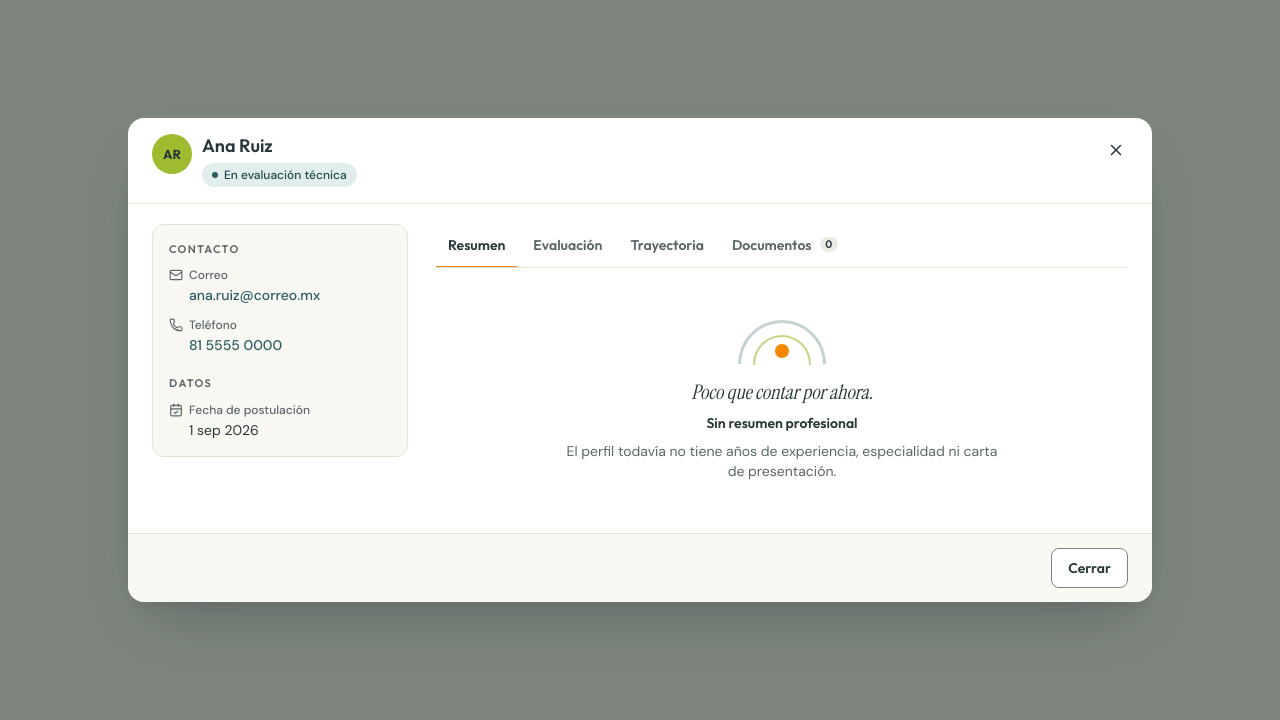
Scenario: Ficha de candidato · Modal del sistema › guardar calificaciones manda el mismo cuerpo de siempre
The image size is (1280, 720).
Click the tab "Evaluación".
click(568, 246)  # box [521, 224, 614, 268]
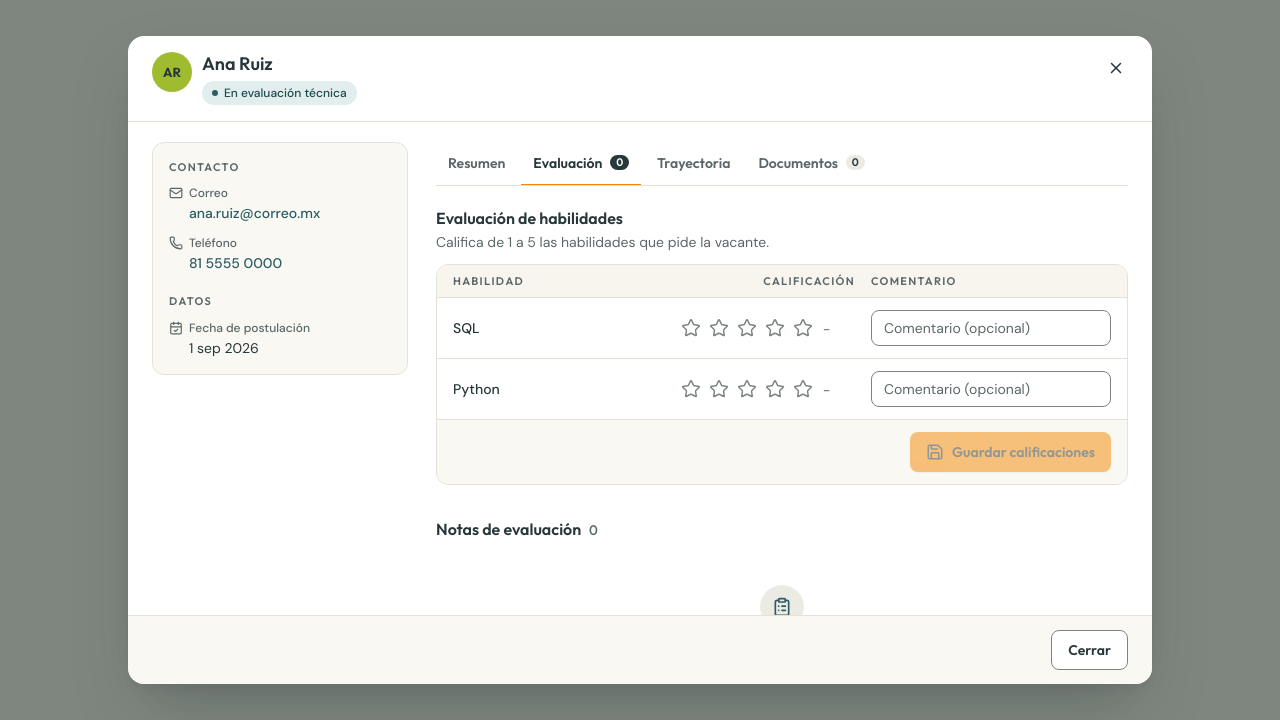
Click the button named "Calificar SQL: 4 de 5 estrellas".
click(775, 328)  # box [761, 312, 789, 344]
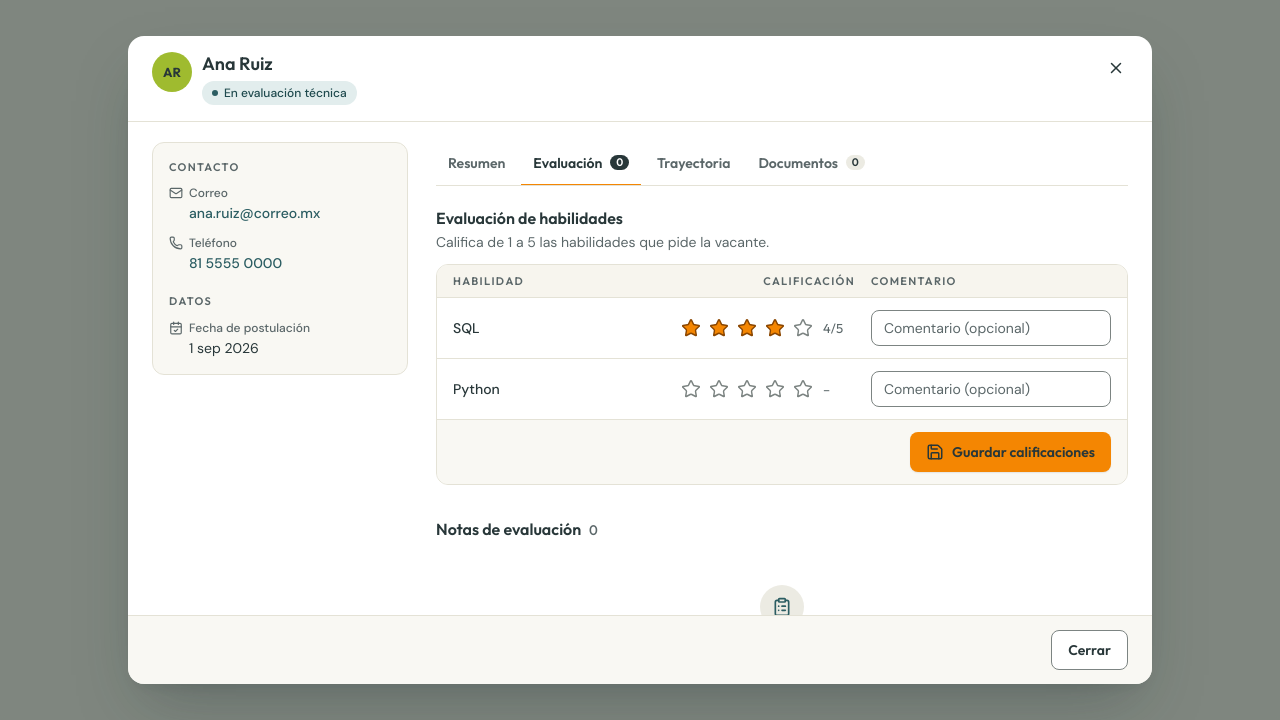
Now the field named "Comentario sobre SQL" is shown, box [871, 310, 1111, 346]
Click the button "Guardar calificaciones".
click(1011, 452)  # box [910, 432, 1111, 472]
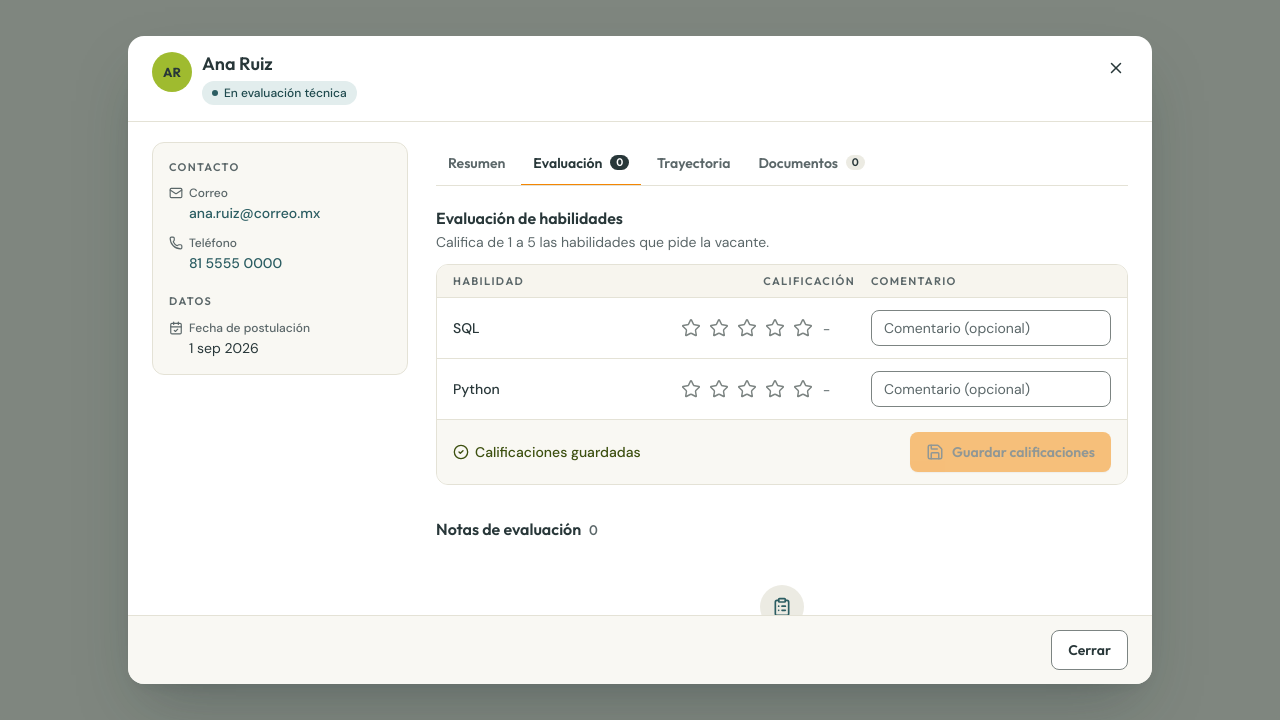
Now the text "Calificaciones guardadas" is shown, box [453, 442, 641, 462]
